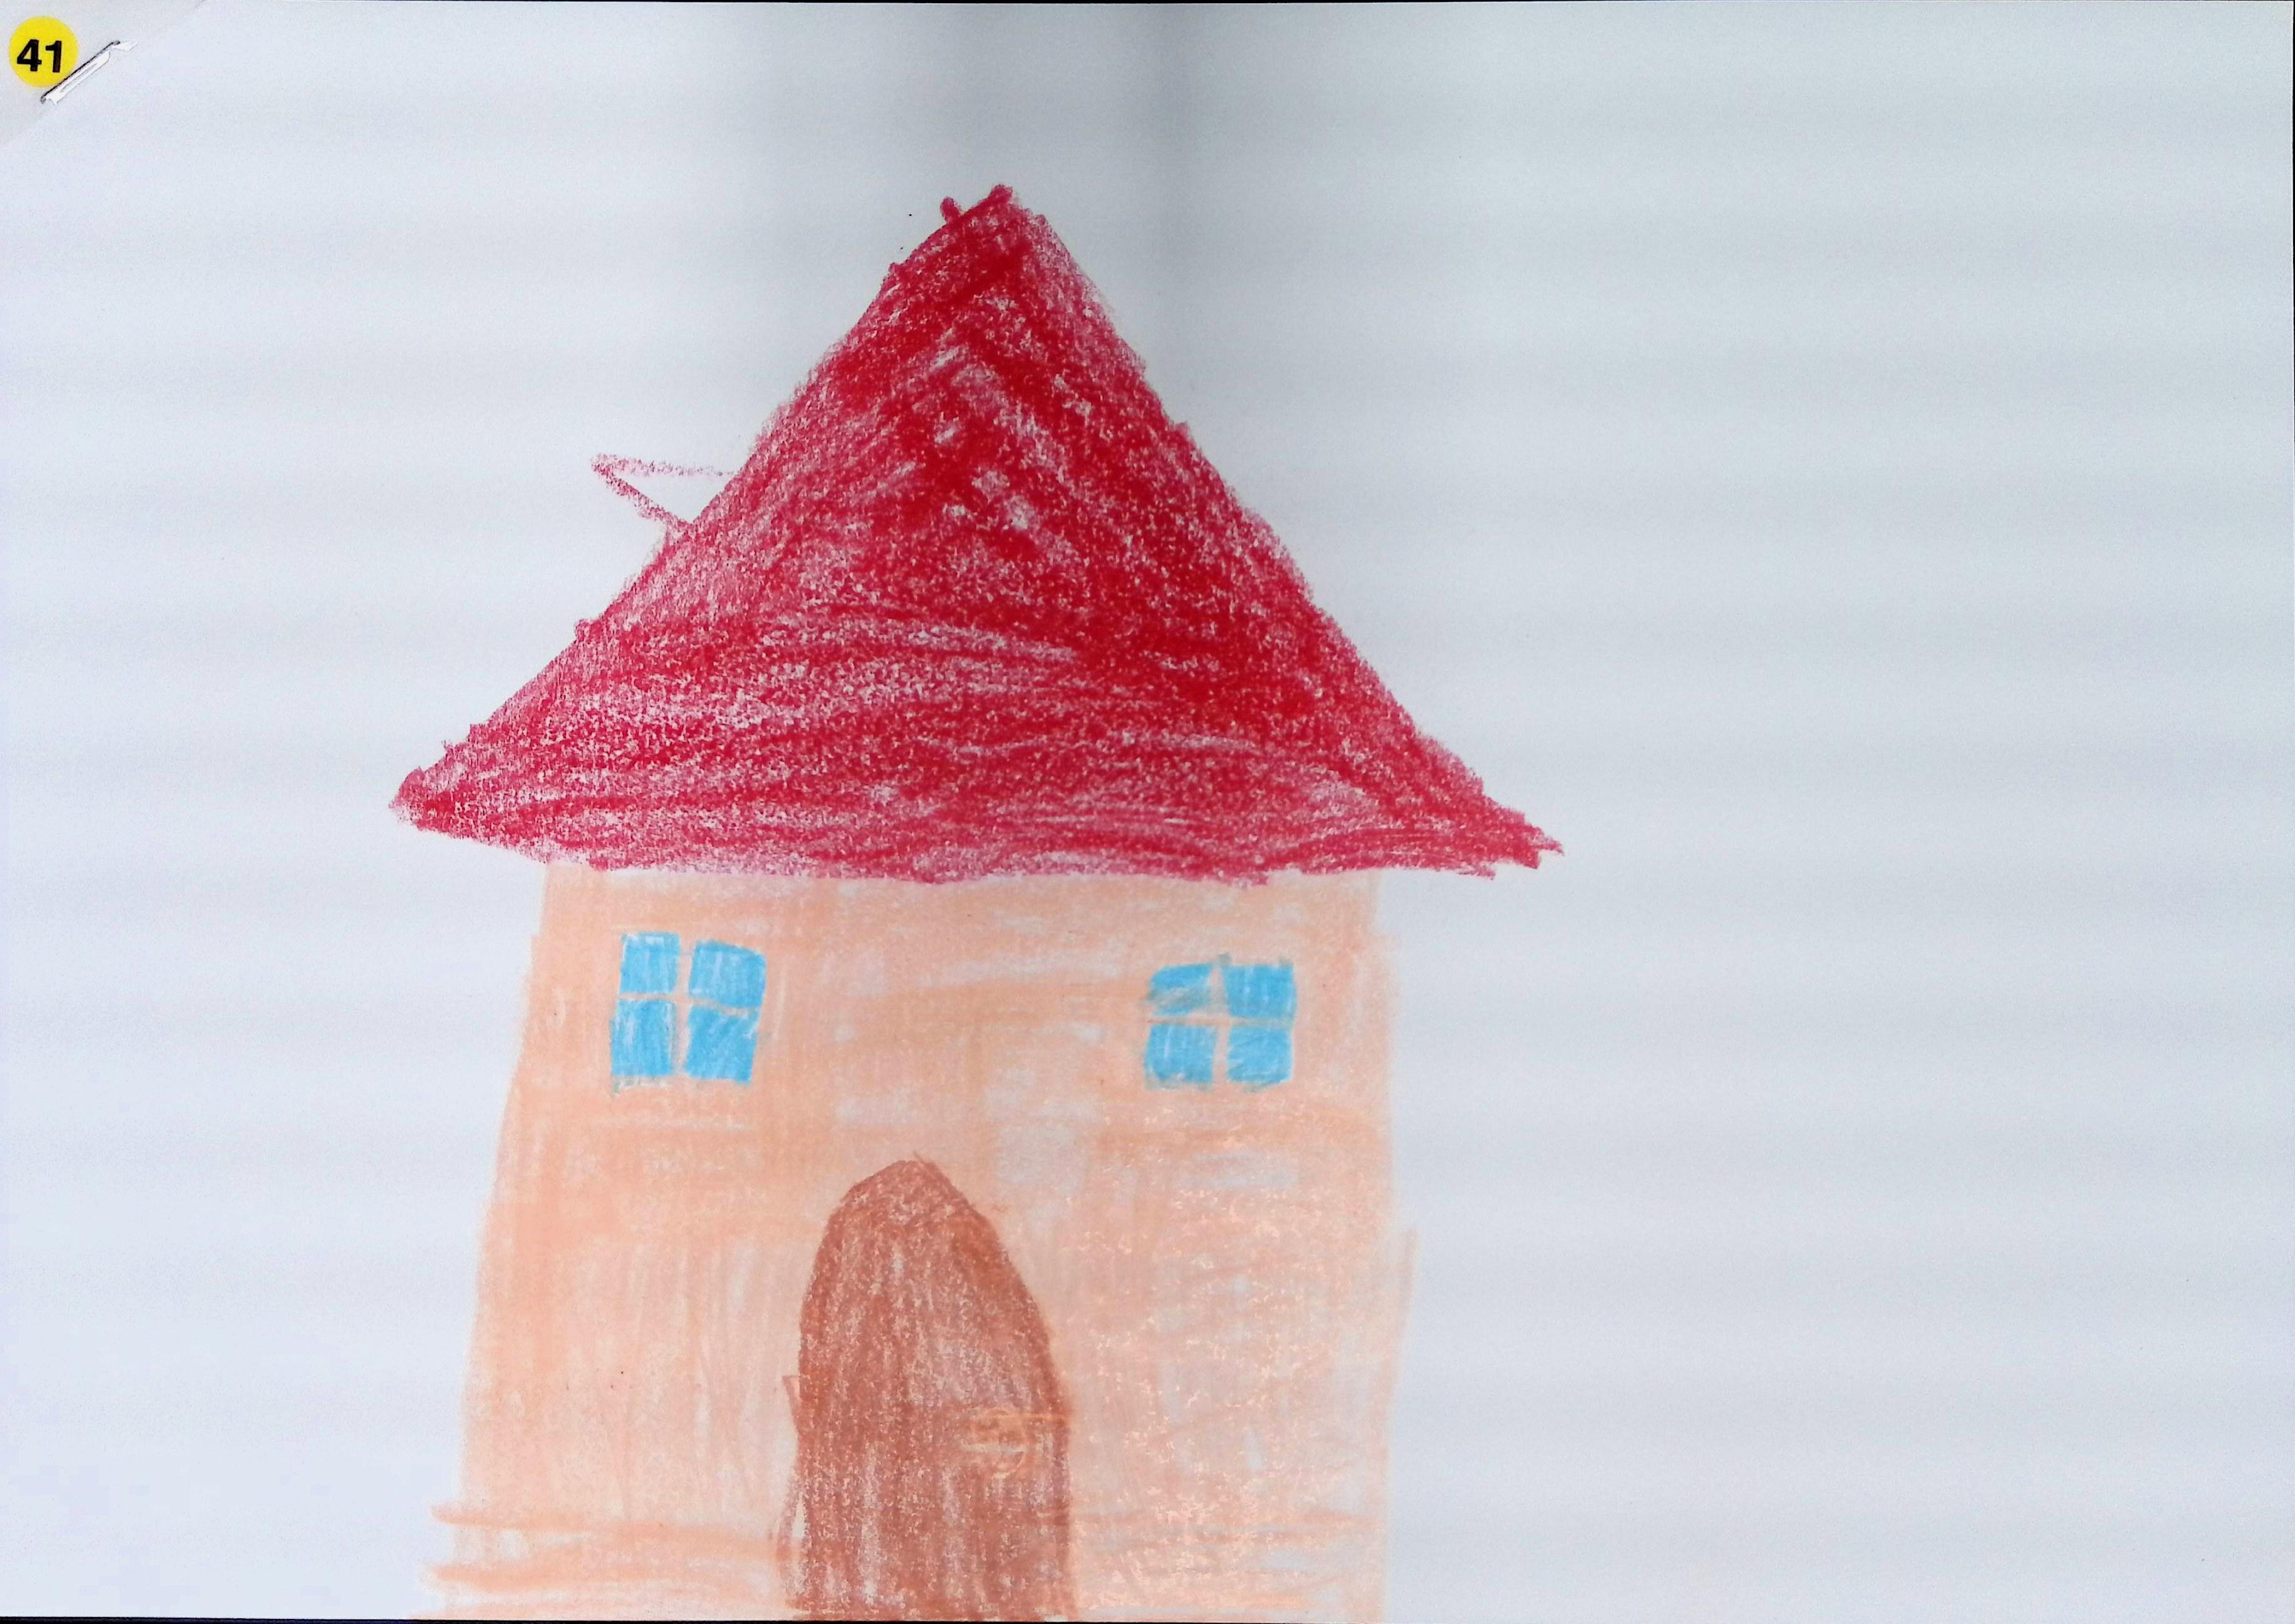door: (780, 1160, 1074, 1622)
house: (397, 183, 1553, 1622)
roof: (392, 183, 1557, 882)
wall: (434, 866, 1409, 1622)
window: (610, 933, 764, 1086), (1144, 956, 1299, 1090)
